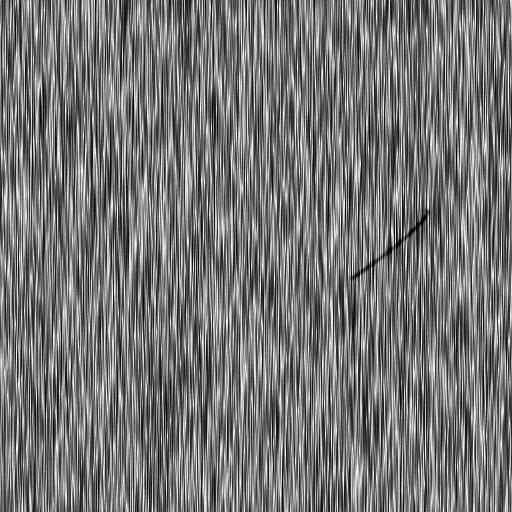DefectTypeC: (351, 209, 436, 283)
